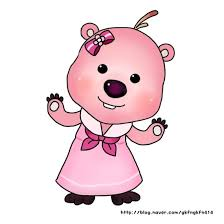Loopy: (45, 7, 175, 205)
